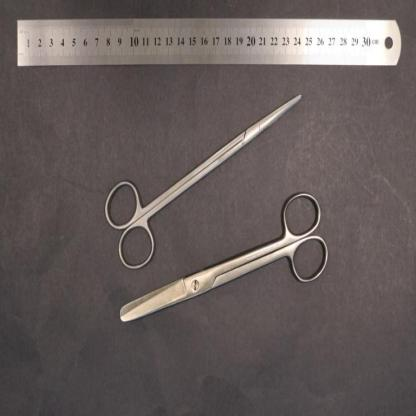7 Metzenbaum Scissors: (102, 94, 302, 272)
Dressing Scissors: (119, 190, 329, 324)
